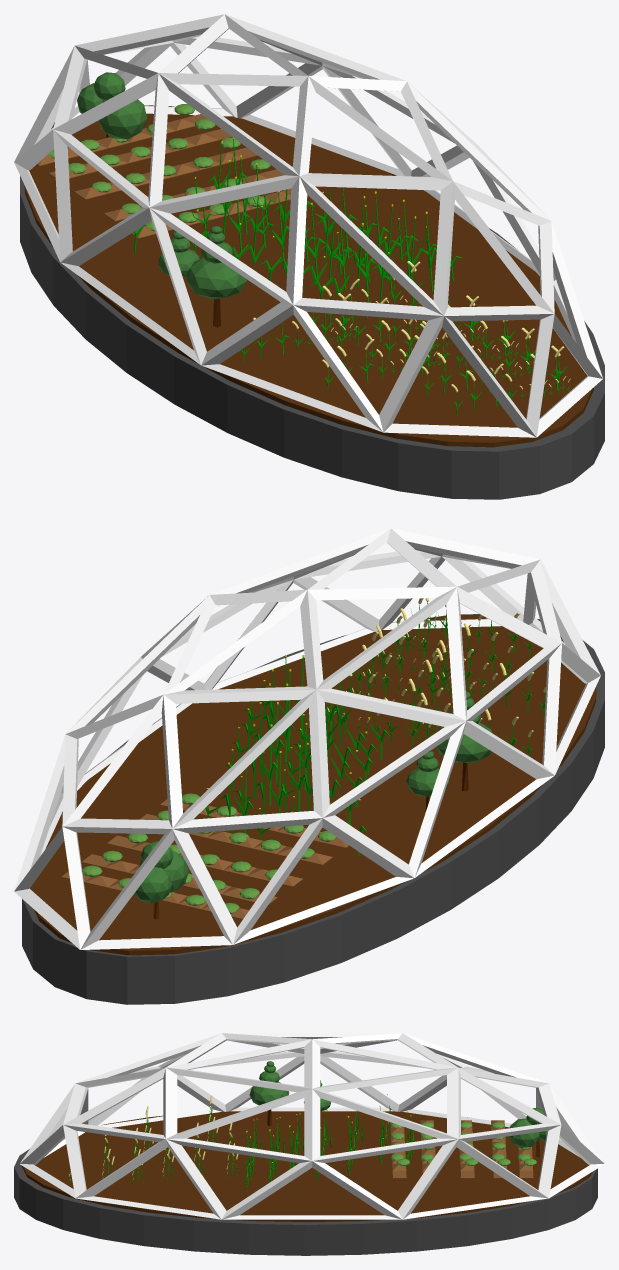
Rendered from MarsScienceLabPlantFarm_2.fbx.
The picture shows the model from 3 angles, top to bottom: view 1: azimuth 30°, elevation 25°; view 2: azimuth 150°, elevation 25°; view 3: azimuth 270°, elevation 25°; orthographic projection. The views are drawn at different scales.
Visible parts, largest first — view 1: Icosphere.146; view 2: Icosphere.146; view 3: Icosphere.146.
Boxes of the visible parts, left/top/right/bottom form: Icosphere.146: left=14, top=14, right=604, bottom=499; Icosphere.146: left=14, top=528, right=604, bottom=1004; Icosphere.146: left=14, top=1033, right=604, bottom=1255.
Size of the model in its own units: 321 by 204 by 689.
